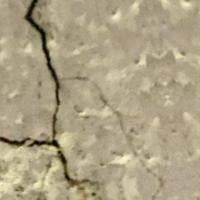crack: (2, 0, 78, 196)
